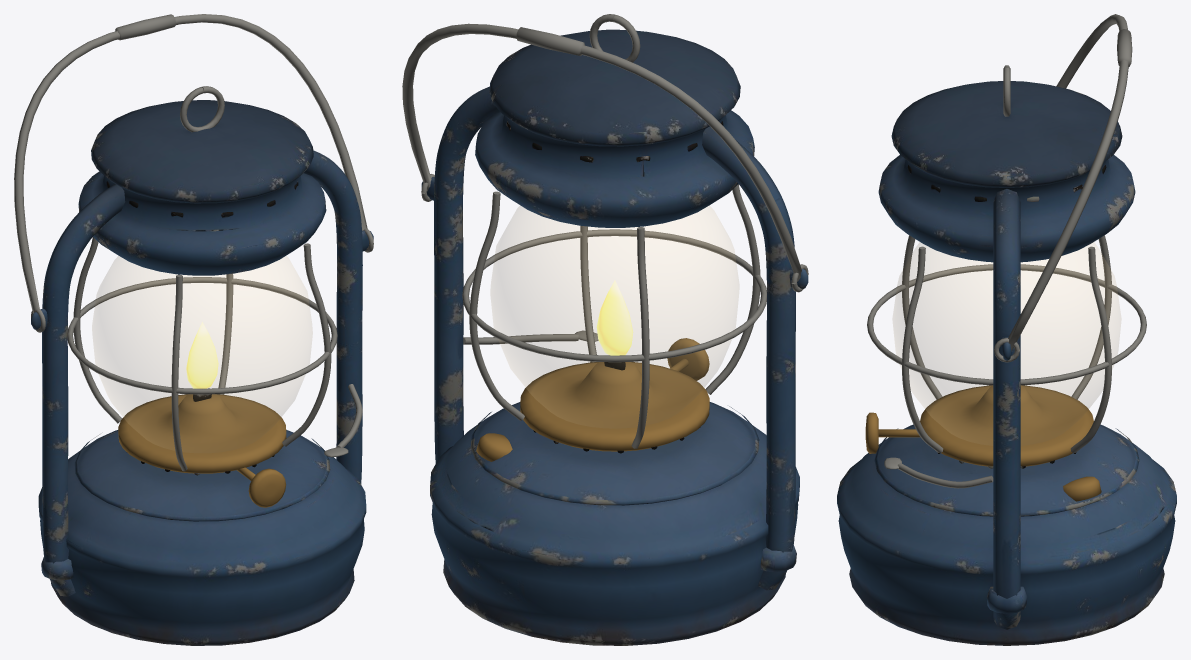
File: lantern.glb
3 views of the same model, side by side, from view 1: azimuth 30°, elevation 25°; view 2: azimuth 150°, elevation 25°; view 3: azimuth 270°, elevation 25° (orthographic). The views are drawn at different scales.
Parts seen in each view (by area): view 1: Body, Glass, Frame, Burner, Guard, Bail, Flame; view 2: Body, Glass, Frame, Burner, Guard, Bail, Flame; view 3: Body, Glass, Frame, Burner, Guard, Bail.
Part boxes in pixels (x1,y1,x2,y2): Body: [38, 100, 366, 645]; Glass: [92, 256, 312, 452]; Frame: [31, 150, 373, 596]; Burner: [118, 394, 286, 507]; Guard: [31, 86, 373, 471]; Bail: [14, 14, 367, 313]; Flame: [186, 322, 218, 388]; Body: [430, 29, 799, 645]; Glass: [491, 206, 738, 427]; Frame: [421, 86, 808, 590]; Burner: [476, 338, 709, 461]; Guard: [421, 14, 808, 448]; Bail: [402, 23, 801, 281]; Flame: [596, 280, 633, 355]; Body: [837, 81, 1176, 645]; Glass: [893, 242, 1120, 445]; Frame: [986, 189, 1027, 629]; Burner: [865, 385, 1101, 501]; Guard: [867, 65, 1146, 488]; Bail: [1008, 14, 1132, 351].
Size of the model in its own units: 0.2508 by 0.368 by 0.209.
5 materials, 1 textured.
